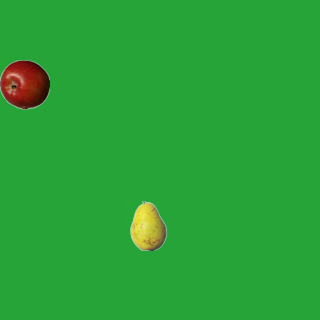Apple Braeburn: (0, 59, 49, 109)
Pear Monster: (123, 200, 173, 250)
